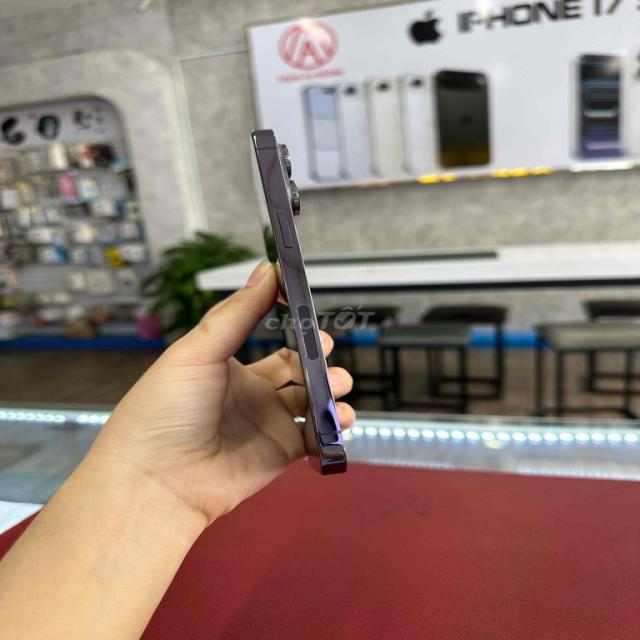gen_14: (244, 110, 358, 486)
